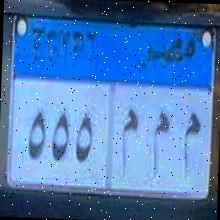5: (49, 108, 71, 168), (73, 110, 95, 168), (26, 106, 47, 166)
meem: (176, 98, 203, 186), (115, 102, 141, 182), (148, 104, 172, 181)
